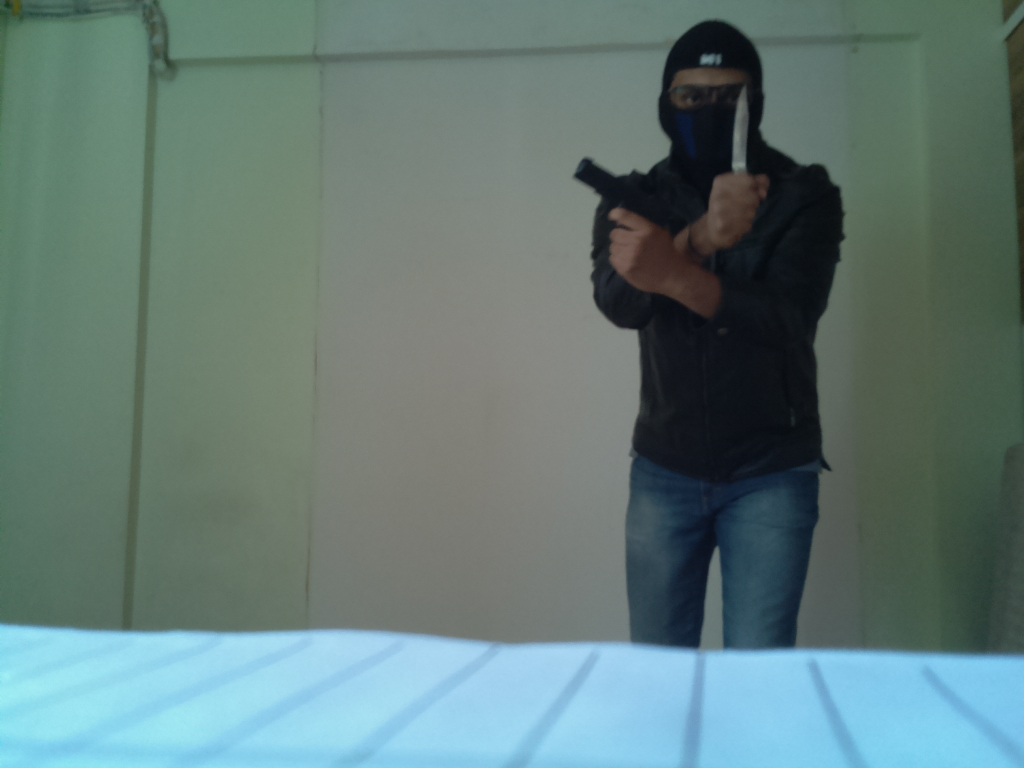gun: (571, 151, 661, 236)
knife: (731, 81, 748, 186)
